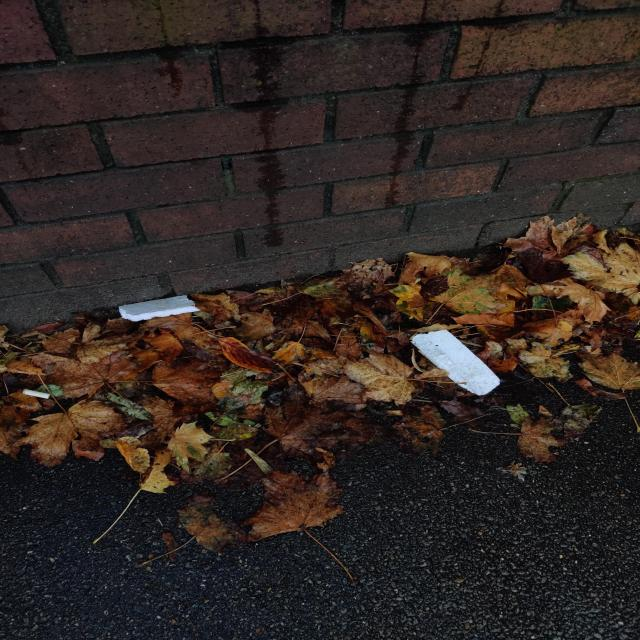litter: (410, 329, 501, 395), (118, 294, 200, 321), (21, 388, 51, 399)
